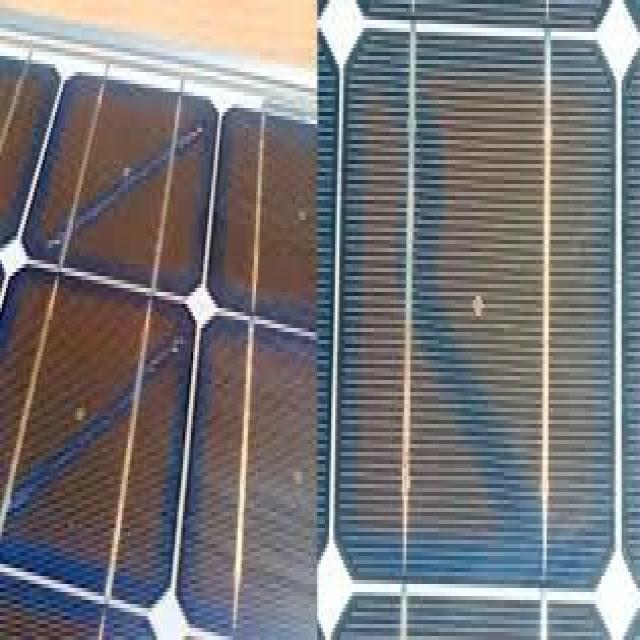faulty: (0, 53, 322, 640), (335, 24, 640, 640)
